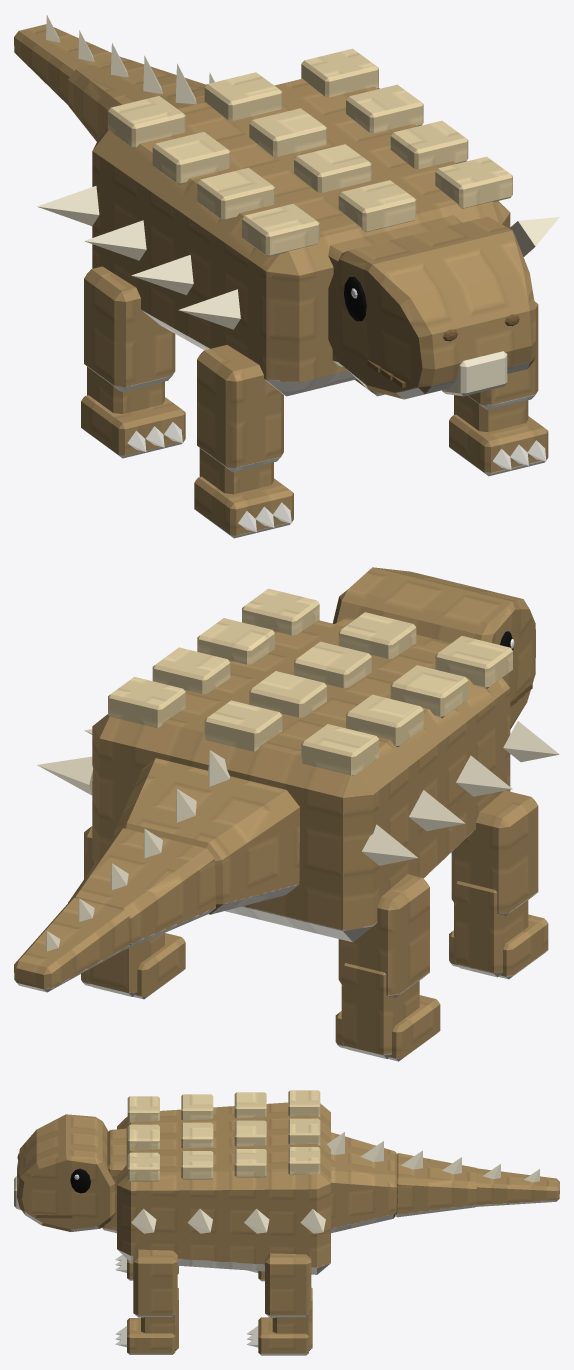
Rendered from 26_Minmi.glb.
3 renders of one model, top to bottom at view 1: azimuth 30°, elevation 25°; view 2: azimuth 150°, elevation 25°; view 3: azimuth 270°, elevation 25°, orthographic. The views are drawn at different scales.
Parts seen in each view (by area): view 1: 26_Minmi; view 2: 26_Minmi; view 3: 26_Minmi.
Boxes of the visible parts, x1,y1,x2,y2 form: 26_Minmi: (14,15,559,538); 26_Minmi: (14,567,559,1061); 26_Minmi: (14,1090,559,1355).
Size of the model in its own units: 1.33 by 1.03 by 2.76.
Materials: 1 (1 with a texture image).
